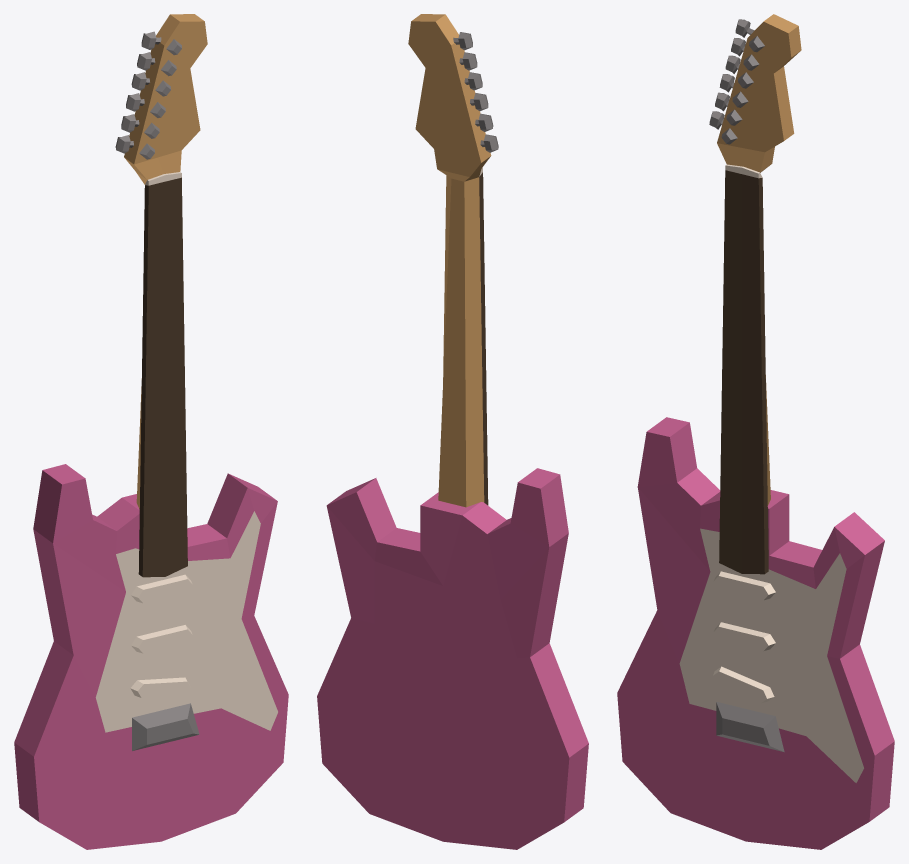
The model's file is guitar-electric-country.fbx.
The picture shows the model from 3 angles, left to right: view 1: azimuth 30°, elevation 25°; view 2: azimuth 150°, elevation 25°; view 3: azimuth 330°, elevation 25°; orthographic projection. The views are drawn at different scales.
Visible parts, largest first — view 1: guitar-electric-country; view 2: guitar-electric-country; view 3: guitar-electric-country.
Boxes of the visible parts, box(x1,y1,x2,y2) form: guitar-electric-country: box(14, 14, 288, 849); guitar-electric-country: box(317, 14, 588, 849); guitar-electric-country: box(617, 14, 894, 849).
Bounding box in the file's own units: 0.3288 × 1.01 × 0.0556.
